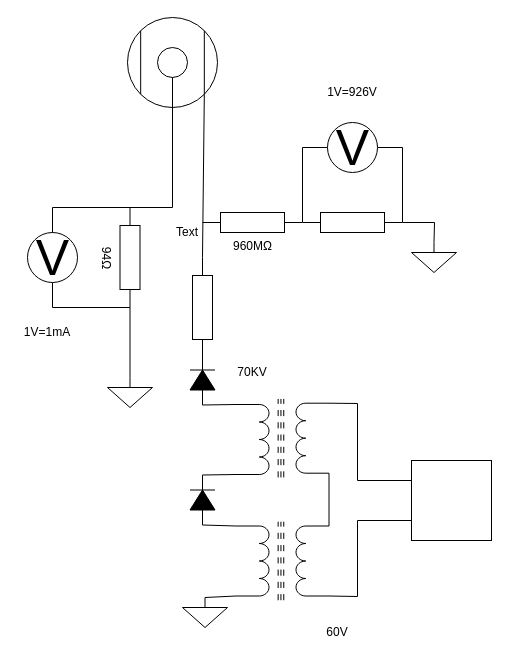
The diagram is 509 pixels wide and 665 high, and some of its shapes have lost their labels. The shapes that lost their labels are listed below. From the top down, each one's centre as x and y in pixels, then its label:
At point (352, 222): "10kΩ".
At point (451, 500): "Przetwornica".
